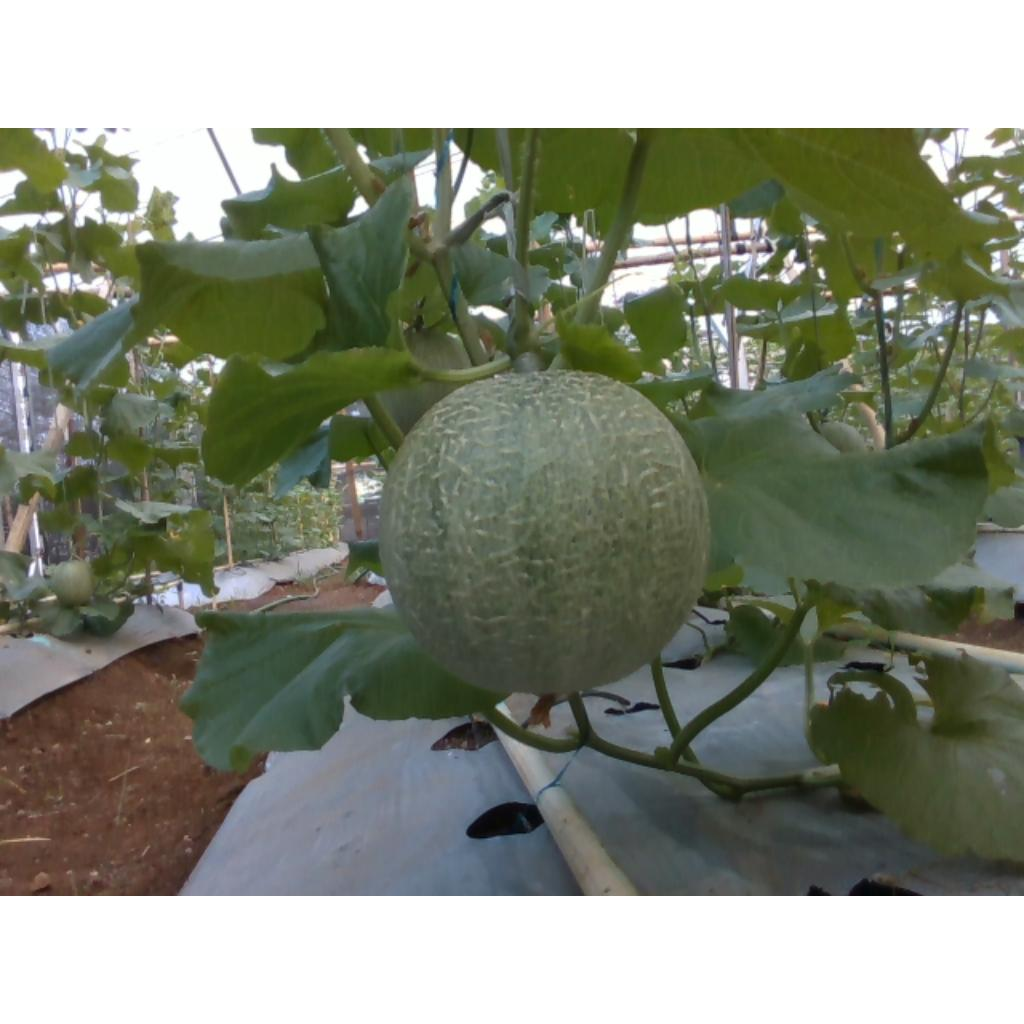melon: (382, 371, 707, 694)
